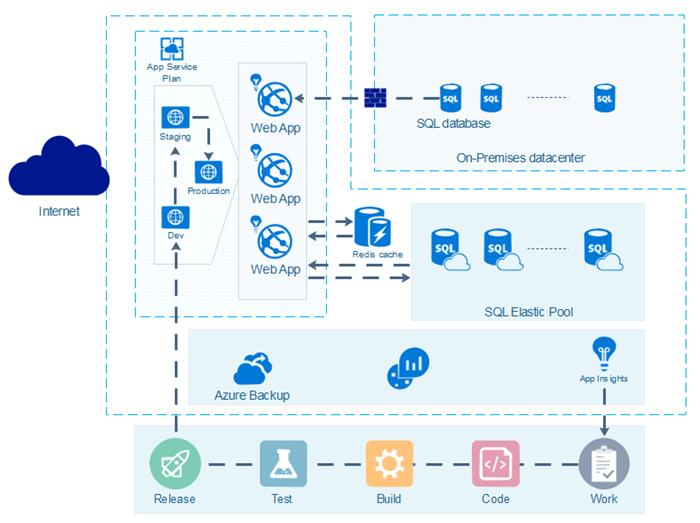Cache: (348, 203, 401, 256)
Database: (576, 224, 629, 279), (421, 226, 474, 278), (477, 226, 528, 279), (476, 75, 514, 119), (587, 77, 627, 118), (434, 76, 470, 115)
User: (246, 144, 297, 192), (249, 73, 296, 120), (249, 220, 295, 263)
